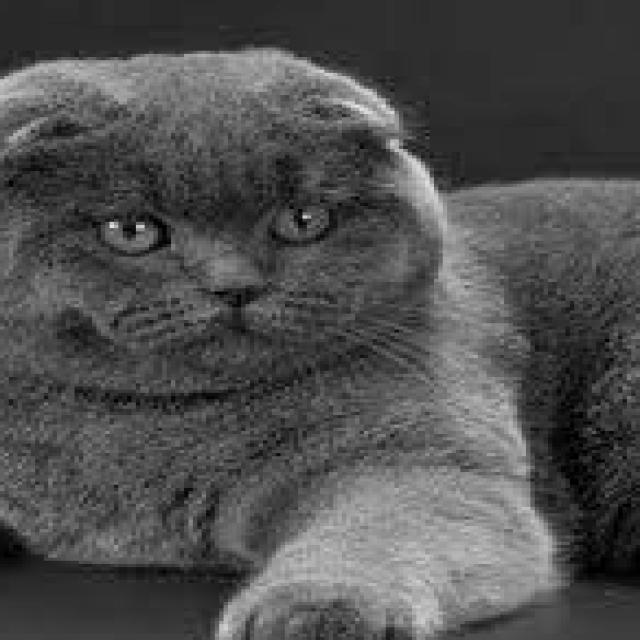scootish: (0, 41, 465, 402)
